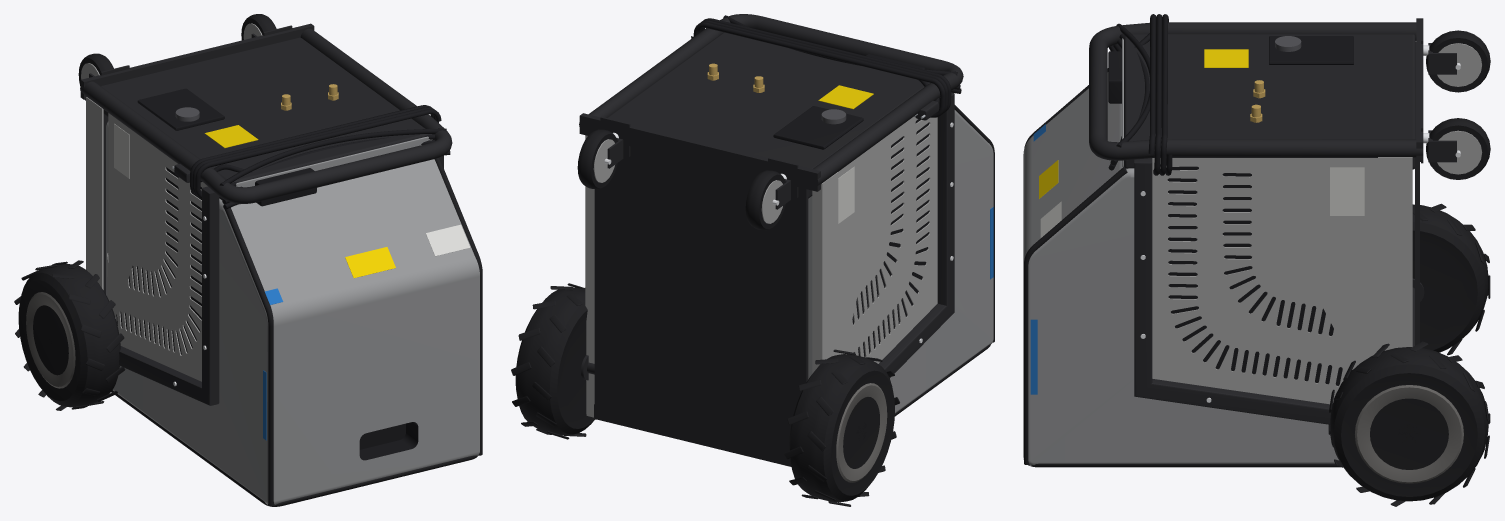
File: cistic.glb
3 views of the same model, side by side, from view 1: azimuth 30°, elevation 25°; view 2: azimuth 150°, elevation 25°; view 3: azimuth 270°, elevation 25° (orthographic). The views are drawn at different scales.
Visible parts, largest first — view 1: kryt_plech, zadni_skrin, panel_deroveny, pneu, rukojet_u, ram_bok, lem_bok (×2), kabel_smycky, lista_spodni_svisla, zadni_pricka, zadni_pouzdro, disk (+13 smaller); view 2: podlaha, zadni_skrin, panel_deroveny, pneu (×2), kryt_plech, rukojet_u, ram_bok, lista_spodni (×2), zadni_pricka, behoun (×2), kabel_smycky, lista_spodni_svisla (+8 smaller); view 3: panel_deroveny, kryt_plech, zadni_skrin, pneu (×2), rukojet_u, ram_bok, lista_spodni_svisla, panel_podklad, disk, kabel_smycky, kolecko_pneu (×2), kolecko_disk (×2) (+13 smaller).
Part boxes in pixels (<box>): kryt_plech: <box>106,121,479,505</box>; zadni_skrin: <box>101,37,432,200</box>; panel_deroveny: <box>107,113,207,381</box>; pneu: <box>18,264,120,407</box>; rukojet_u: <box>80,28,452,203</box>; ram_bok: <box>119,186,219,405</box>; lem_bok (×2): <box>224,158,482,506</box>; kabel_smycky: <box>190,105,441,198</box>; lista_spodni_svisla: <box>89,99,103,289</box>; zadni_pricka: <box>80,23,314,99</box>; zadni_pouzdro: <box>137,88,224,130</box>; disk: <box>26,292,75,388</box>; podlaha: <box>594,146,808,466</box>; zadni_skrin: <box>607,32,929,198</box>; panel_deroveny: <box>838,117,937,363</box>; pneu (×2): <box>515,287,894,502</box>; kryt_plech: <box>808,110,993,413</box>; rukojet_u: <box>579,14,963,188</box>; ram_bok: <box>878,92,954,378</box>; lista_spodni (×2): <box>585,135,825,417</box>; zadni_pricka: <box>579,113,820,191</box>; behoun (×2): <box>511,283,899,506</box>; kabel_smycky: <box>691,18,951,117</box>; lista_spodni_svisla: <box>825,172,838,359</box>; panel_deroveny: <box>1152,158,1377,404</box>; kryt_plech: <box>1023,72,1338,465</box>; zadni_skrin: <box>1124,34,1415,169</box>; pneu (×2): <box>1330,204,1488,501</box>; rukojet_u: <box>1089,22,1423,160</box>; ram_bok: <box>1134,158,1330,424</box>; lista_spodni_svisla: <box>1378,157,1405,350</box>; panel_podklad: <box>1167,166,1352,385</box>; disk: <box>1355,385,1463,483</box>; kabel_smycky: <box>1148,14,1172,175</box>; kolecko_pneu (×2): <box>1426,30,1490,179</box>; kolecko_disk (×2): <box>1437,43,1482,174</box>.
Bounding box in the file's own units: 650 × 650 × 780.
